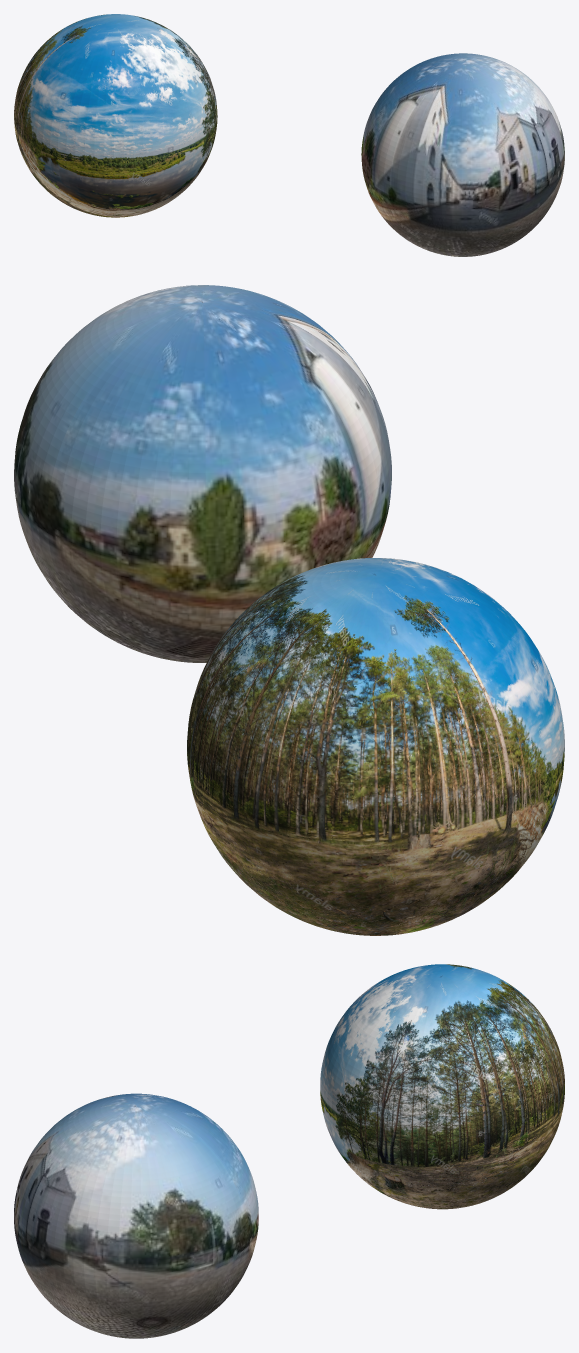
File: ZweiSpheren.gltf
3 renders of one model, top to bottom at view 1: azimuth 30°, elevation 25°; view 2: azimuth 150°, elevation 25°; view 3: azimuth 270°, elevation 25°, orthographic. The views are drawn at different scales.
Visible parts, largest first — view 1: Plane, Plane.001; view 2: Plane.001, Plane; view 3: Plane, Plane.001.
Part boxes in pixels (x1=…): Plane: x1=361, y1=53, x2=564, y2=256; Plane.001: x1=14, y1=14, x2=217, y2=217; Plane.001: x1=187, y1=558, x2=564, y2=935; Plane: x1=14, y1=285, x2=391, y2=662; Plane: x1=14, y1=1093, x2=258, y2=1338; Plane.001: x1=320, y1=964, x2=564, y2=1209.
Size of the model in its own units: 17.99 by 8 by 17.99.
Materials: 2 (2 with a texture image).
